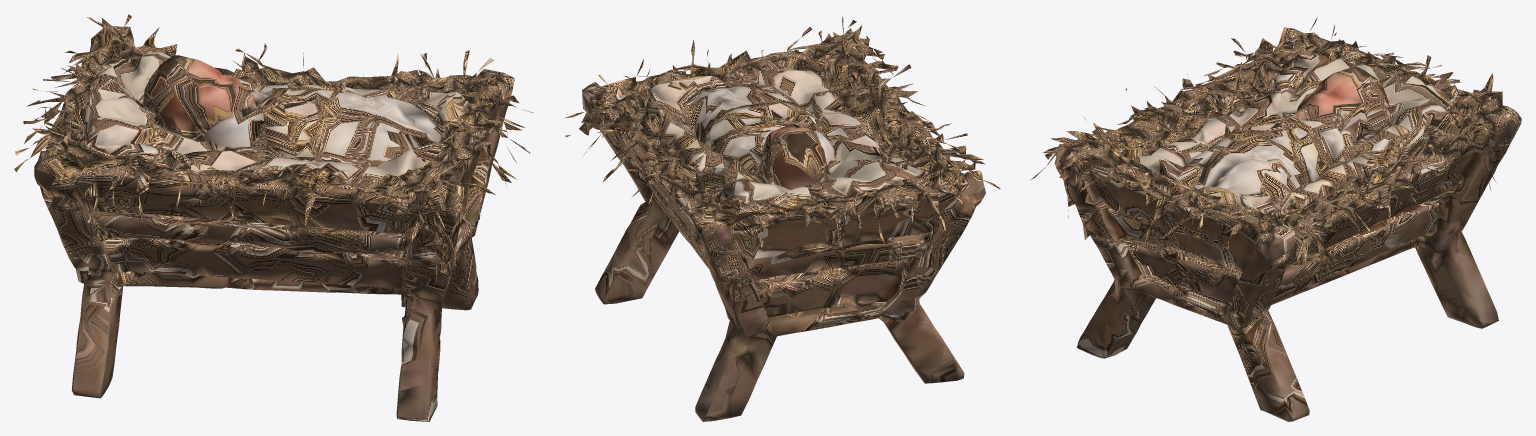
Rendered from jesus-manger-tripo.glb.
3 views of the same model, side by side, from view 1: azimuth 30°, elevation 25°; view 2: azimuth 150°, elevation 25°; view 3: azimuth 270°, elevation 25° (orthographic). The views are drawn at different scales.
Visible parts, largest first — view 1: tripo_node_997ed375-363c-4c88-8b6a-e045f2e40191; view 2: tripo_node_997ed375-363c-4c88-8b6a-e045f2e40191; view 3: tripo_node_997ed375-363c-4c88-8b6a-e045f2e40191.
Part boxes in pixels (left/top/right/bottom): tripo_node_997ed375-363c-4c88-8b6a-e045f2e40191: left=14, top=14, right=533, bottom=421; tripo_node_997ed375-363c-4c88-8b6a-e045f2e40191: left=564, top=15, right=1000, bottom=421; tripo_node_997ed375-363c-4c88-8b6a-e045f2e40191: left=1030, top=14, right=1521, bottom=421.
Size of the model in its own units: 1.28 by 0.716 by 1.32.
Materials: 1 (1 with a texture image).
